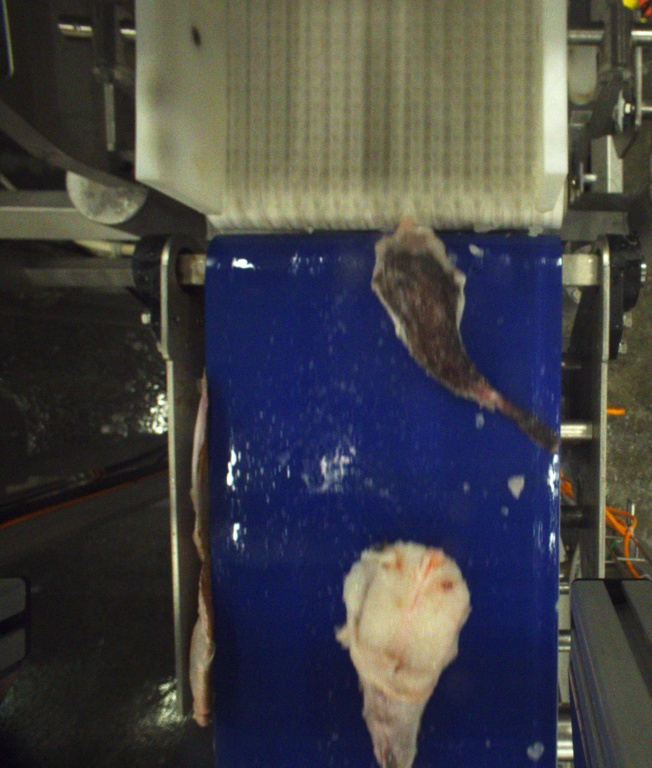ANF: (370, 218, 564, 458)
